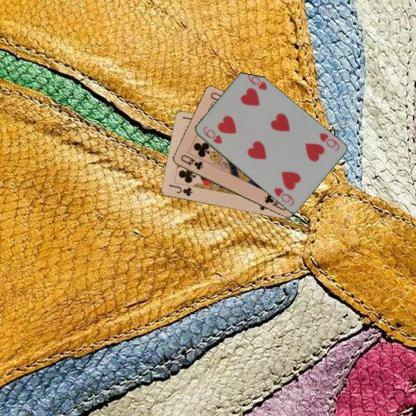6h: (316, 130, 340, 152), (200, 124, 223, 145)
Jc: (166, 182, 194, 198)
Qc: (178, 152, 204, 171)
